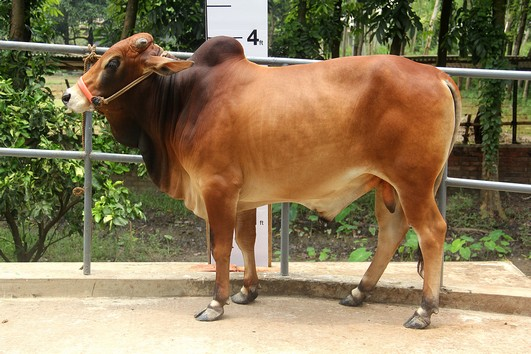cow: (55, 29, 461, 333)
